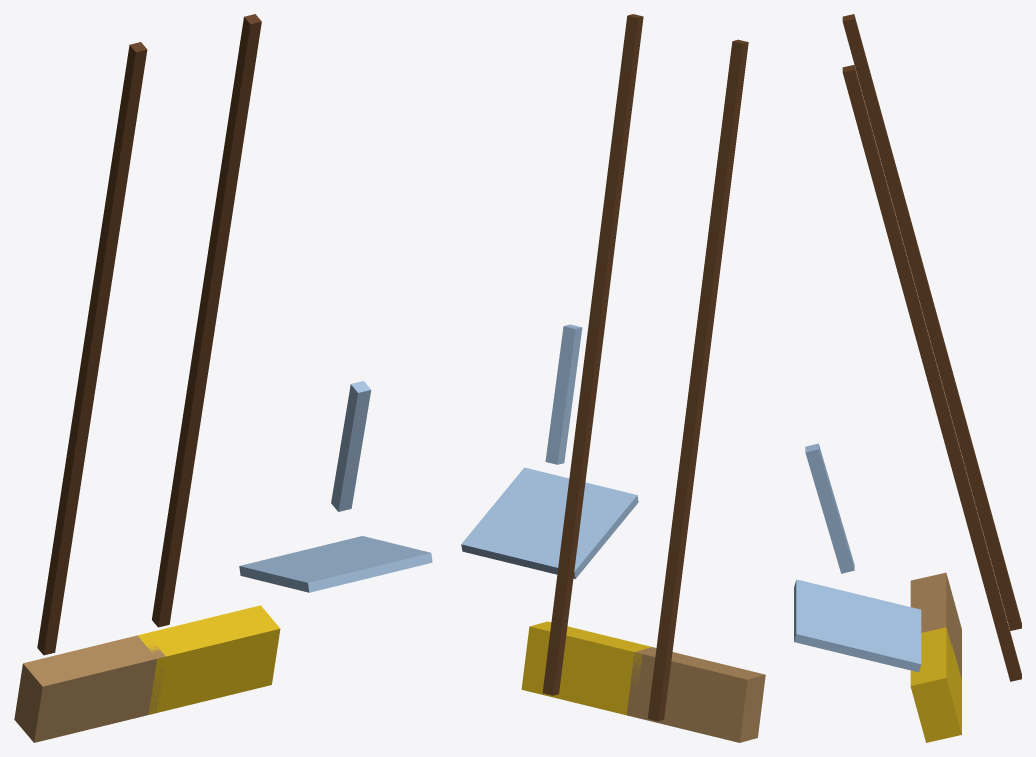
The model's file is SM_80s_Brooms.glb.
The picture shows the model from 3 angles, left to right: view 1: azimuth 30°, elevation 25°; view 2: azimuth 150°, elevation 25°; view 3: azimuth 270°, elevation 25°; orthographic projection. The views are drawn at different scales.
Parts seen in each view (by area): view 1: SM_80s_Brooms; view 2: SM_80s_Brooms; view 3: SM_80s_Brooms.
Boxes of the visible parts, x1,y1,x2,y2 form: SM_80s_Brooms: (14,14,432,742); SM_80s_Brooms: (461,14,765,742); SM_80s_Brooms: (794,14,1021,742).
Bounding box in the file's own units: 0.9768 × 2.04 × 0.6512.
